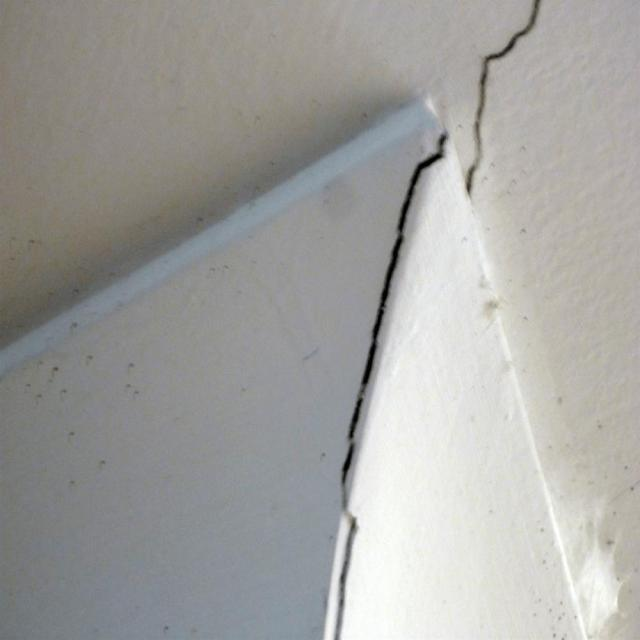crack: (326, 131, 450, 639), (462, 0, 543, 193)
